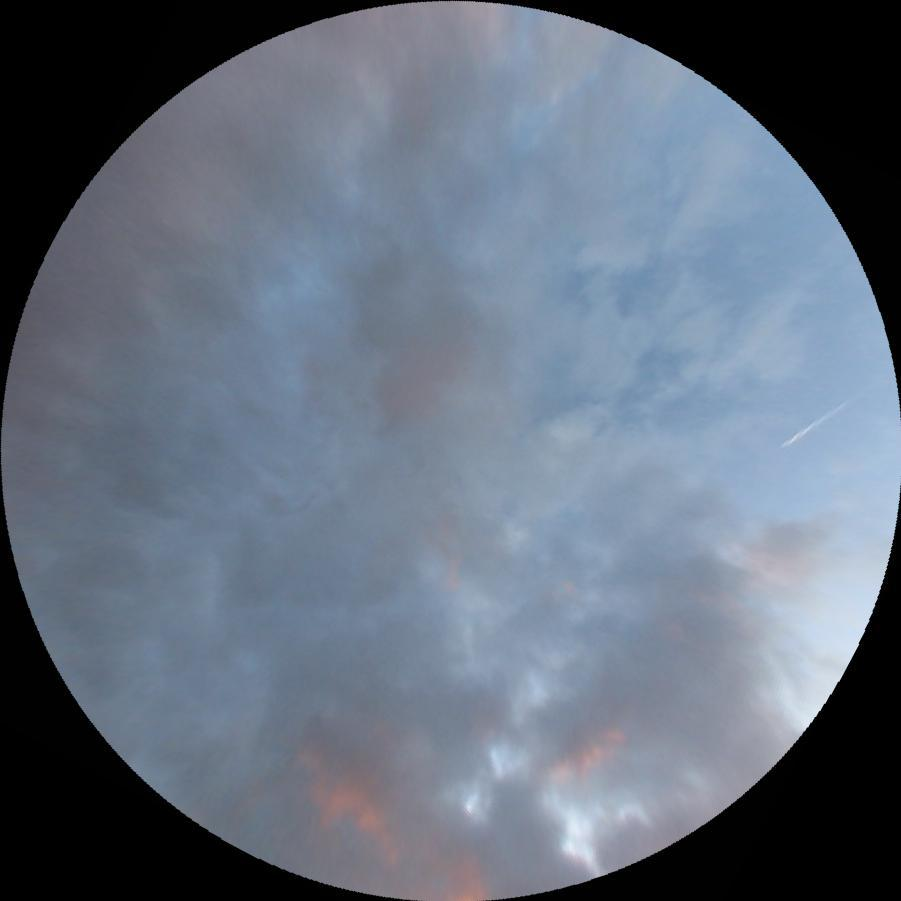contrail young: (778, 385, 868, 449)
